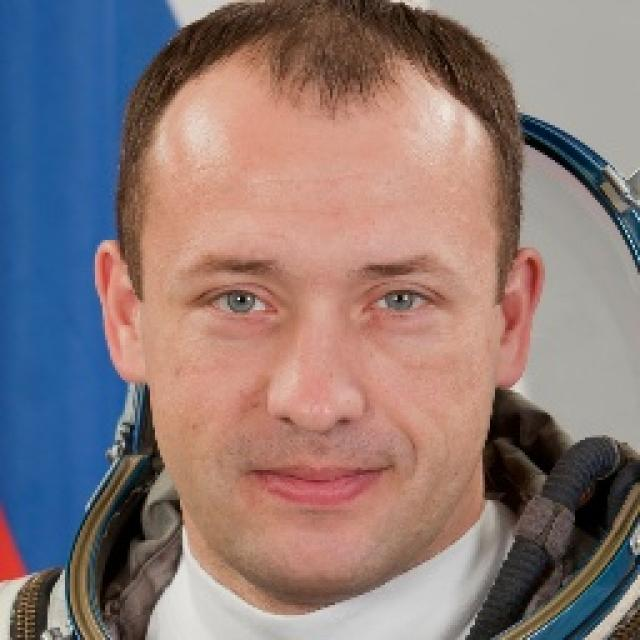earlobe: (114, 335, 150, 389), (492, 338, 528, 390)
eye: (201, 287, 279, 319), (366, 287, 438, 318)
nose: (270, 417, 364, 459)
wholeear: (95, 241, 152, 390), (492, 246, 546, 391)
